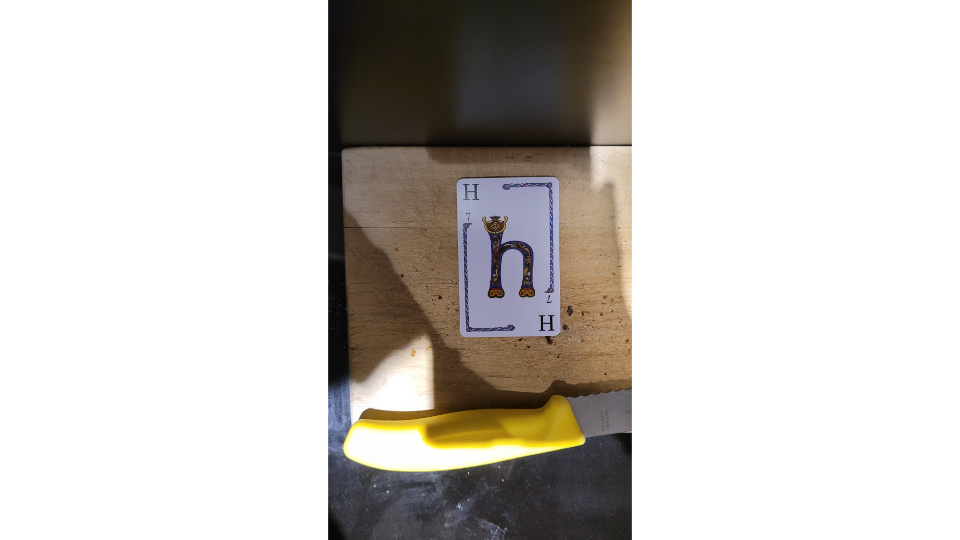H: (453, 174, 565, 340)
